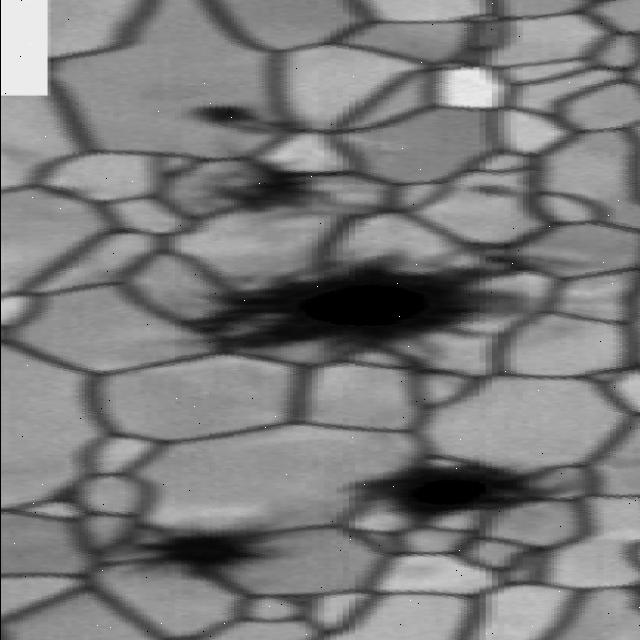good_void: (195, 254, 531, 365), (342, 457, 551, 530), (100, 522, 285, 580), (210, 172, 335, 214), (455, 180, 529, 208), (189, 104, 258, 132)
